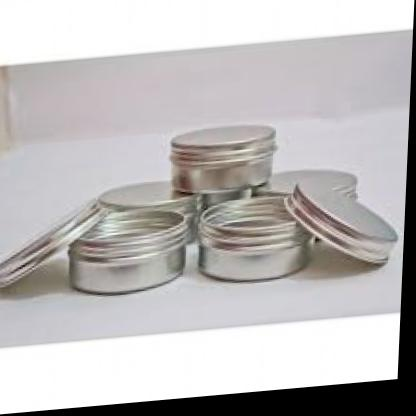Metal: (0, 56, 406, 355)
